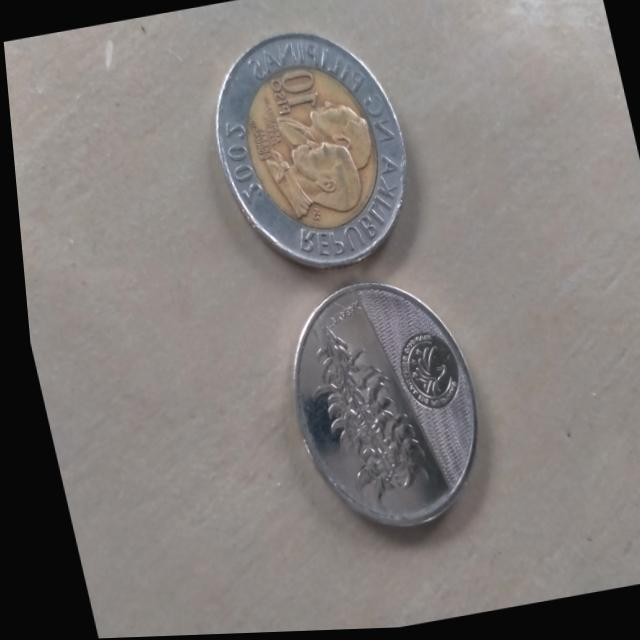10_Old_Front: (260, 56, 330, 126)
5_New_Back: (292, 303, 430, 525)
